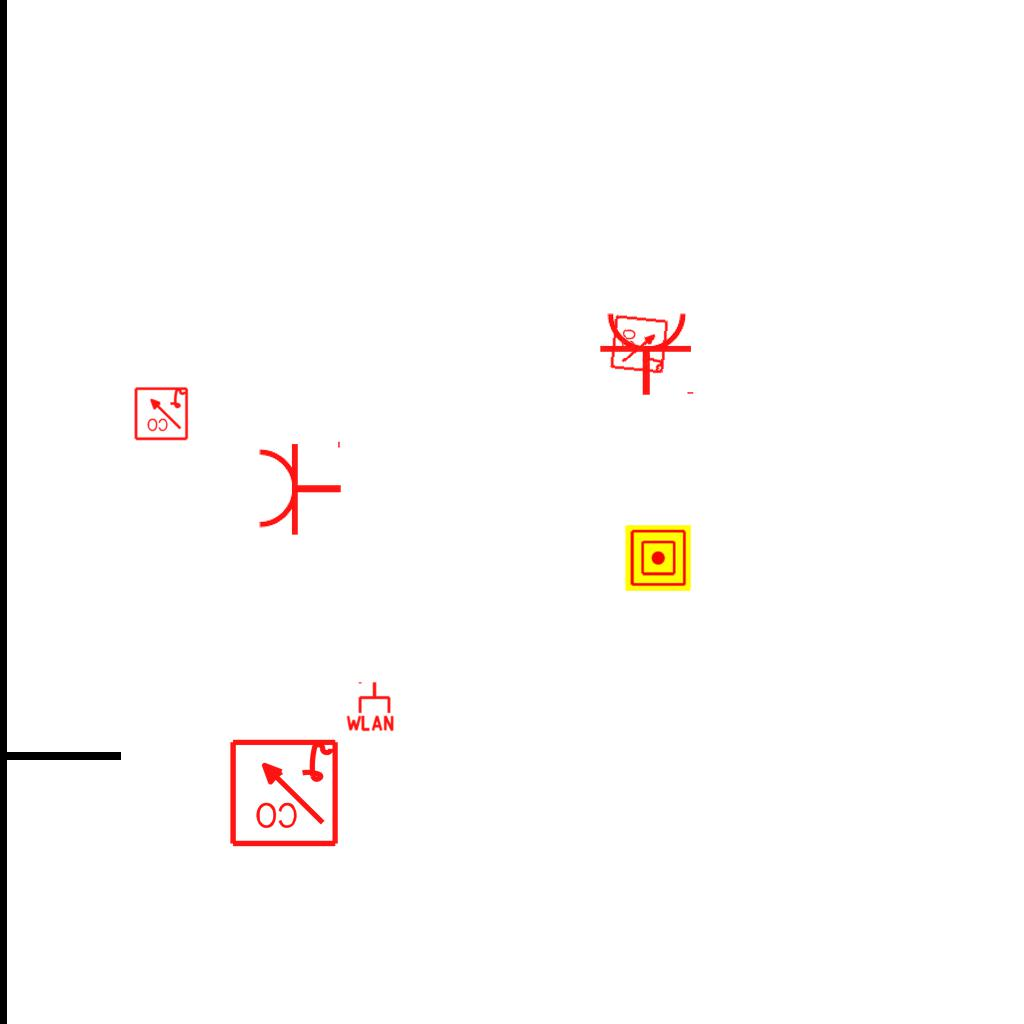NAM-Nichtautomatischer_Melder: (625, 525, 691, 591)
ROA_Rauchmelder_optisch_mit_Signalgeber_(Sockelsirene): (227, 735, 340, 848), (609, 313, 671, 375), (133, 385, 189, 441)
Schukosteckdose_einfach: (256, 437, 343, 537), (598, 310, 698, 397)
WLAN: (344, 680, 396, 732)
